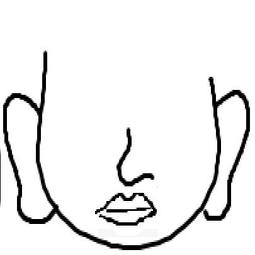cupid_mouth: (85, 189, 161, 228)
large_ear: (3, 81, 61, 229), (195, 86, 253, 228)
nose: (110, 129, 157, 188)
